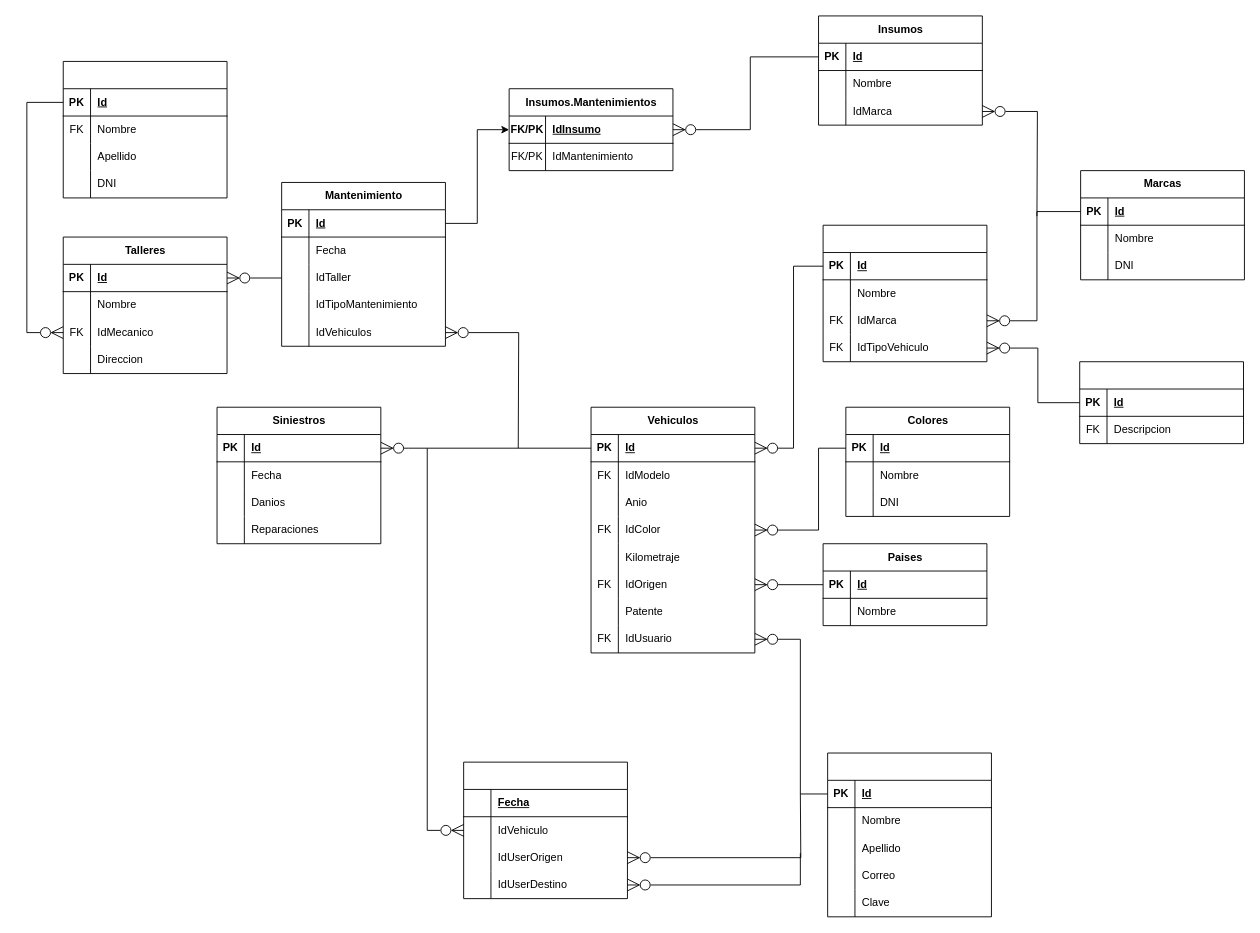
Some shapes in this 1260 by 933 pixel diagram are drawn without their labels. Each missing label, with the box of its shape:
Mecanicos: (62, 61, 227, 198)
Modelos: (822, 224, 987, 362)
TipoVehiculos: (1079, 361, 1244, 444)
Transferencias: (463, 761, 627, 899)
Users: (827, 752, 991, 917)
